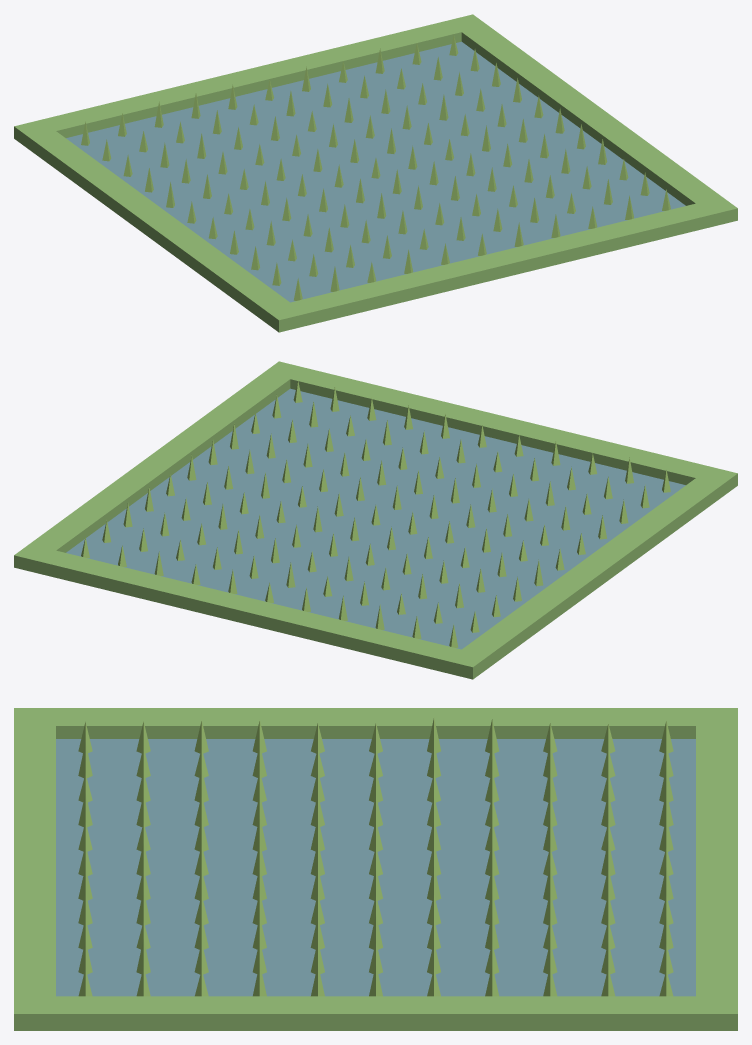
File: tanbo.glb
The picture shows the model from 3 angles, top to bottom: view 1: azimuth 30°, elevation 25°; view 2: azimuth 150°, elevation 25°; view 3: azimuth 270°, elevation 25°; orthographic projection. The views are drawn at different scales.
Visible parts, largest first — view 1: tanbo; view 2: tanbo; view 3: tanbo.
Part boxes in pixels (left/top/right/bottom): tanbo: left=14, top=14, right=737, bottom=332; tanbo: left=14, top=361, right=737, bottom=679; tanbo: left=14, top=708, right=737, bottom=1030.
Size of the model in its own units: 8.6 by 0.4997 by 8.6.
